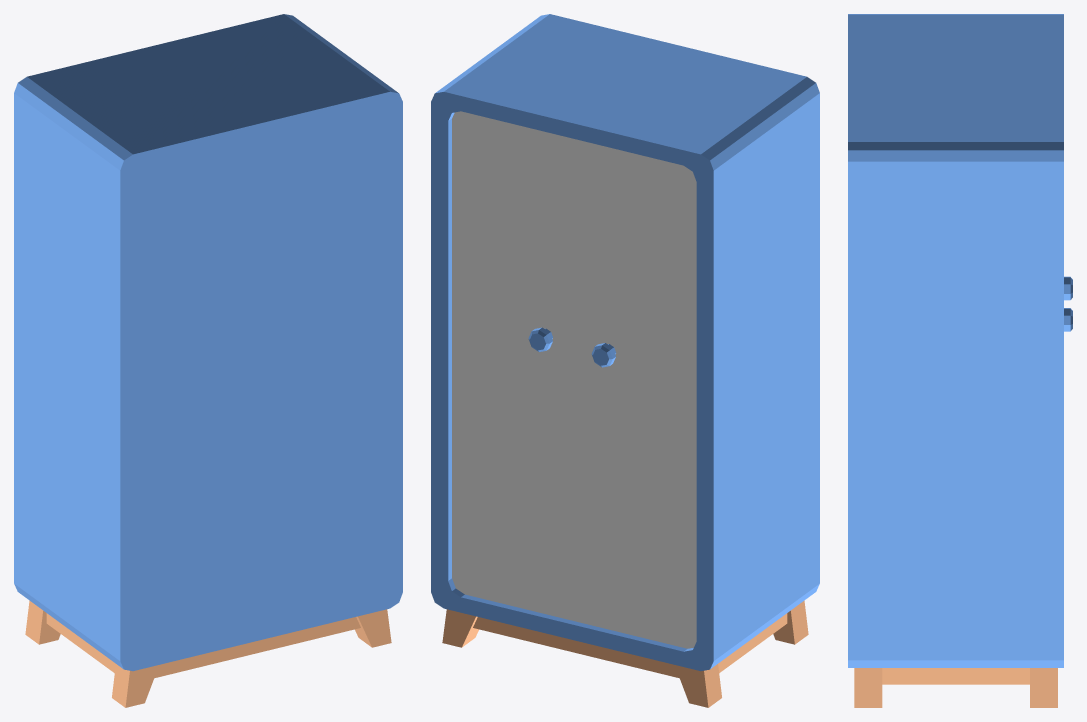
Rendered from Wardrobe 2.fbx.
3 views of the same model, side by side, from view 1: azimuth 30°, elevation 25°; view 2: azimuth 150°, elevation 25°; view 3: azimuth 270°, elevation 25° (orthographic).
Parts seen in each view (by area): view 1: Node 0; view 2: Node 0, Node 2, Node 1; view 3: Node 0.
Boxes of the visible parts, bbox=[...] form: Node 0: bbox=[14, 14, 402, 707]; Node 0: bbox=[431, 14, 819, 707]; Node 2: bbox=[452, 111, 576, 621]; Node 1: bbox=[576, 139, 696, 648]; Node 0: bbox=[848, 14, 1063, 707].
Size of the model in its own units: 1.23 by 3.41 by 1.82.
